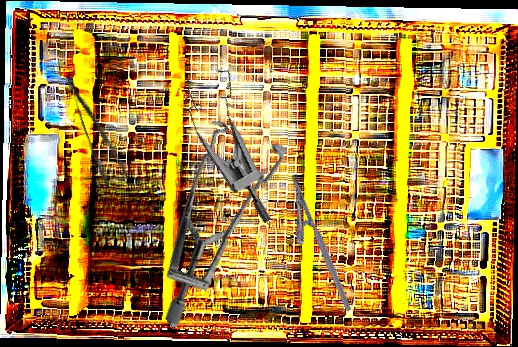Dressing Forceps: (63, 66, 130, 189)
Needle Holder: (272, 172, 353, 320)
Speculum: (89, 96, 334, 329), (155, 54, 323, 226)
